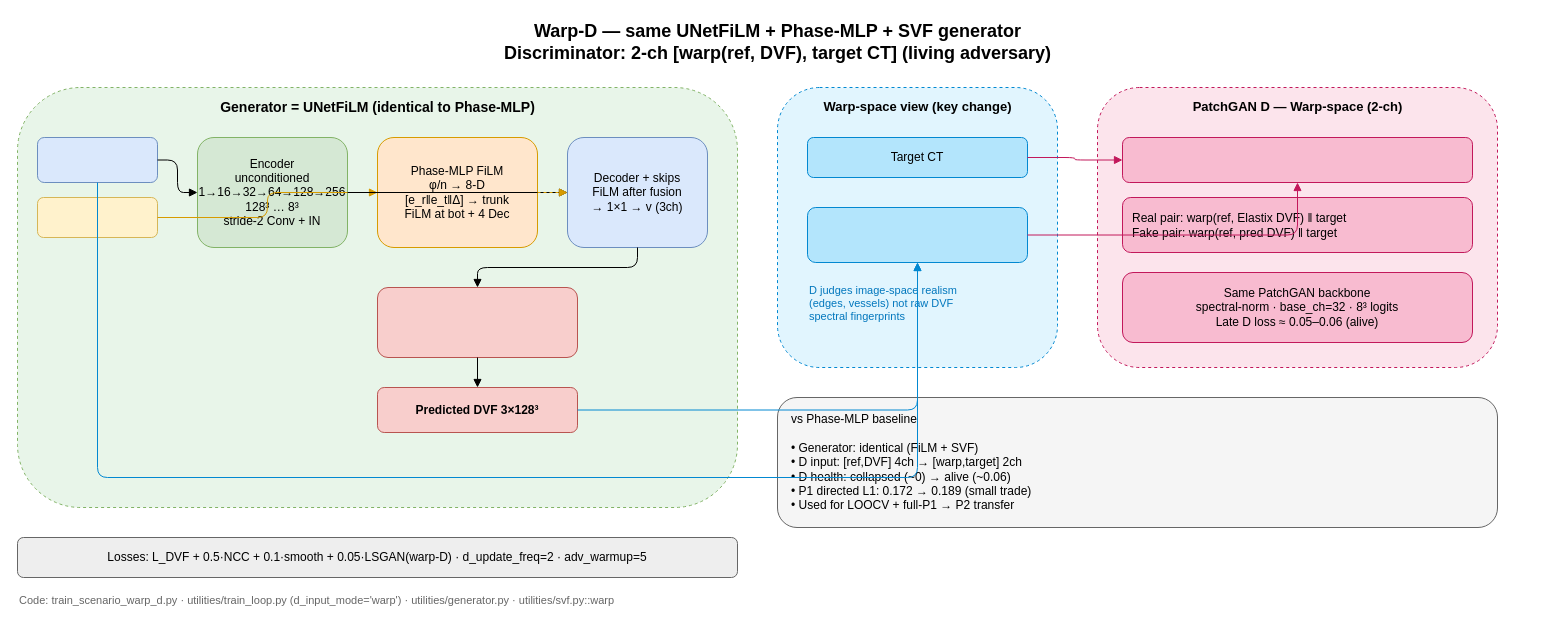
The diagram is 1555 pixels wide and 634 high, and some of its shapes have lost their labels. The shapes that lost their labels are listed below. From the top down, each one's centre as x and y in pixels, then its label:
At point (97, 159): "Ref CT 1×128³".
At point (1297, 159): "concat[ warped_ref (1), target (1) ] → 2ch".
At point (97, 217): "φ_ref, φ_tgt".
At point (917, 234): "warp(ref CT, pred DVF) spatial transformer".
At point (477, 322): "Scaling-and-Squaring int_steps=6 v → diffeomorphic DVF".
